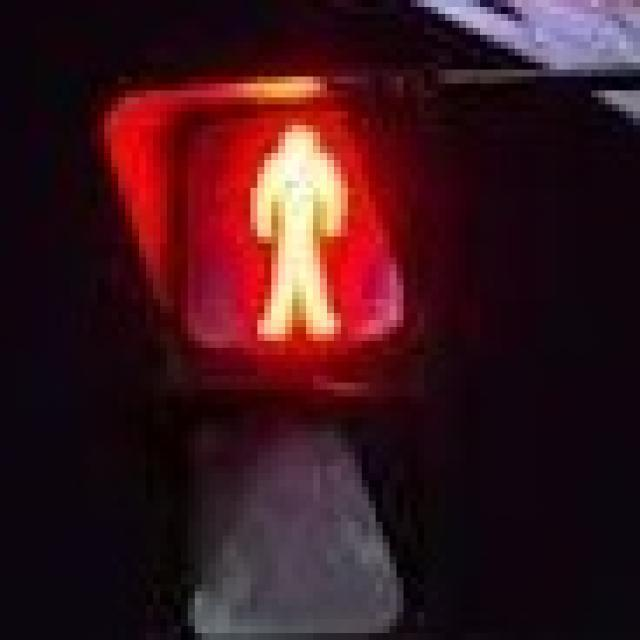red-crossing: (208, 90, 368, 355)
